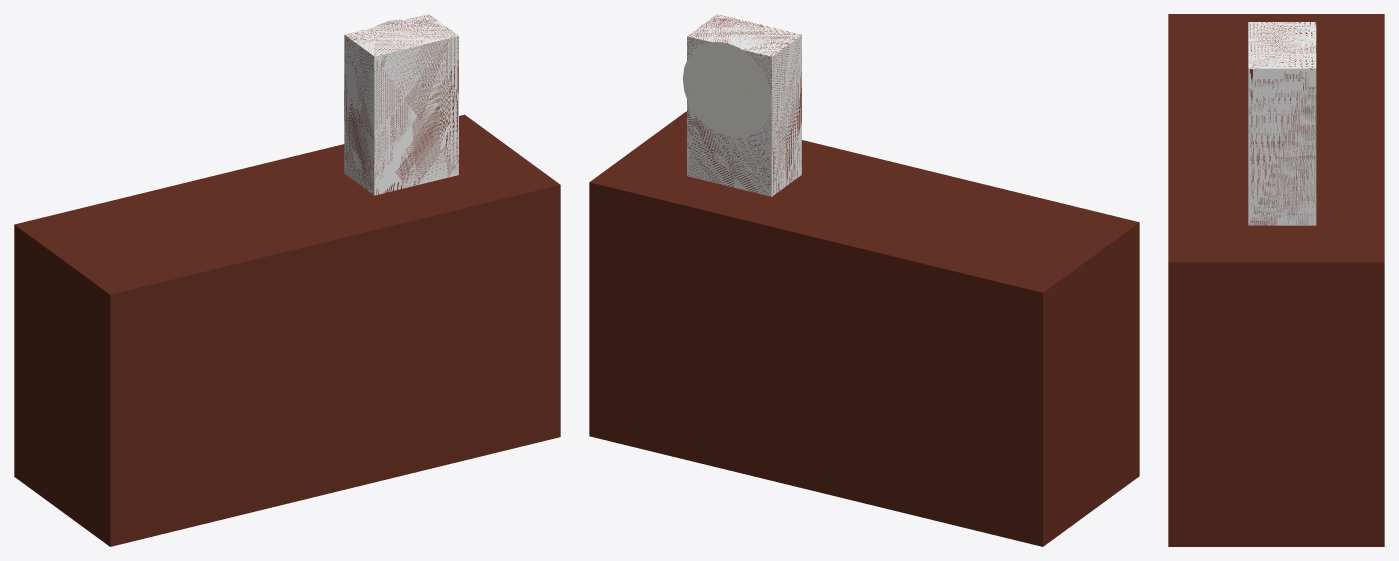
Rendered from PerryDresser.dae.
3 renders of one model, left to right at view 1: azimuth 30°, elevation 25°; view 2: azimuth 150°, elevation 25°; view 3: azimuth 270°, elevation 25°, orthographic. The views are drawn at different scales.
Visible parts, largest first — view 1: SketchUp (×2); view 2: SketchUp (×3); view 3: SketchUp (×2).
Part boxes in pixels (box(x1,y1,x2,y2)): SketchUp (×2): box(14, 14, 560, 546); SketchUp (×3): box(589, 14, 1139, 546); SketchUp (×2): box(1168, 14, 1384, 546).
Bounding box in the file's own units: 73.44 × 27.08 × 61.41.
